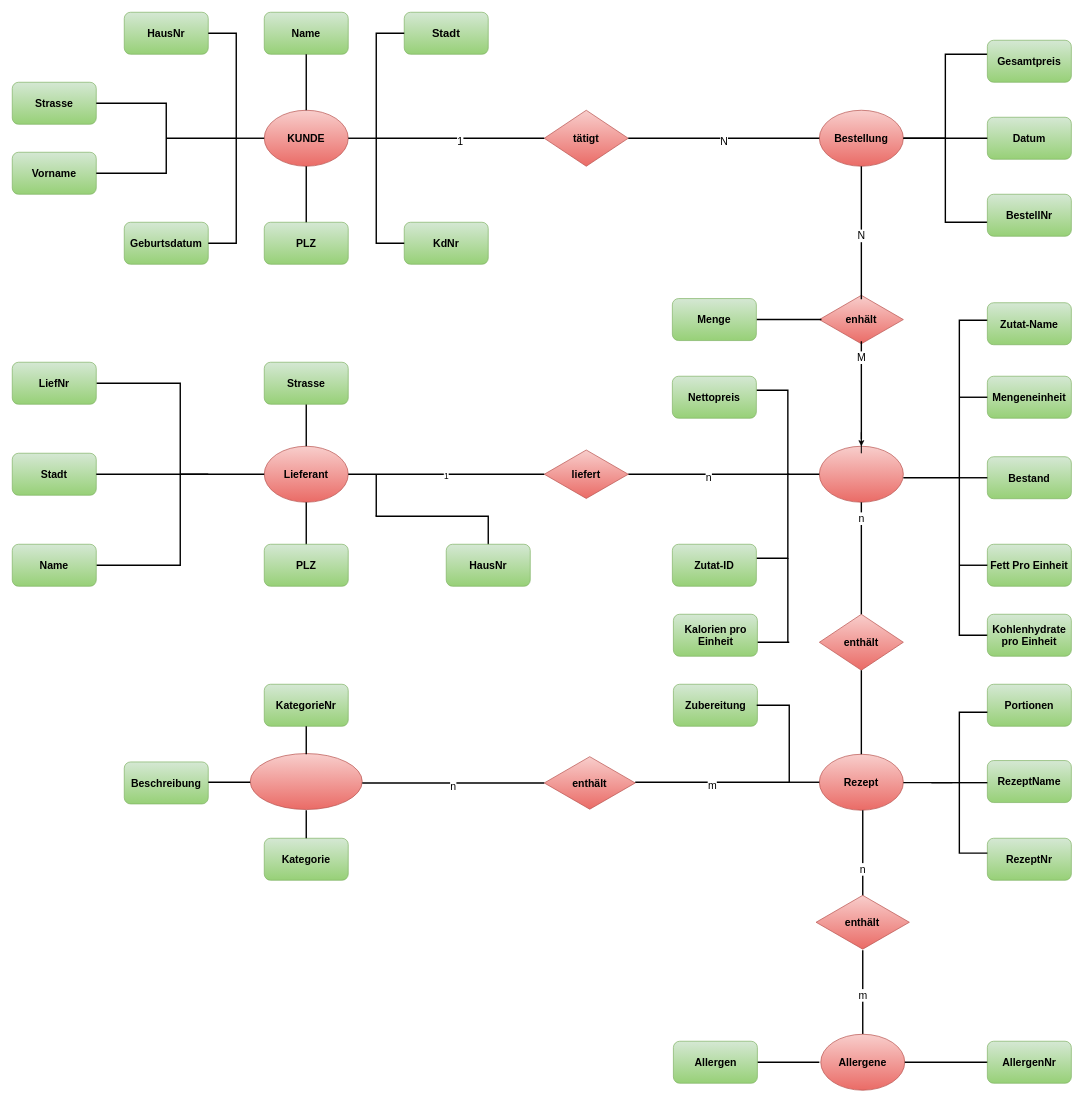
Some shapes in this 1084 by 1103 pixel diagram are drawn without their labels. The centre of each missing label's shape, as x and y in pixels:
"Ernährungskategorie" goes at point 306,781.
"Zutat" goes at point 861,474.
